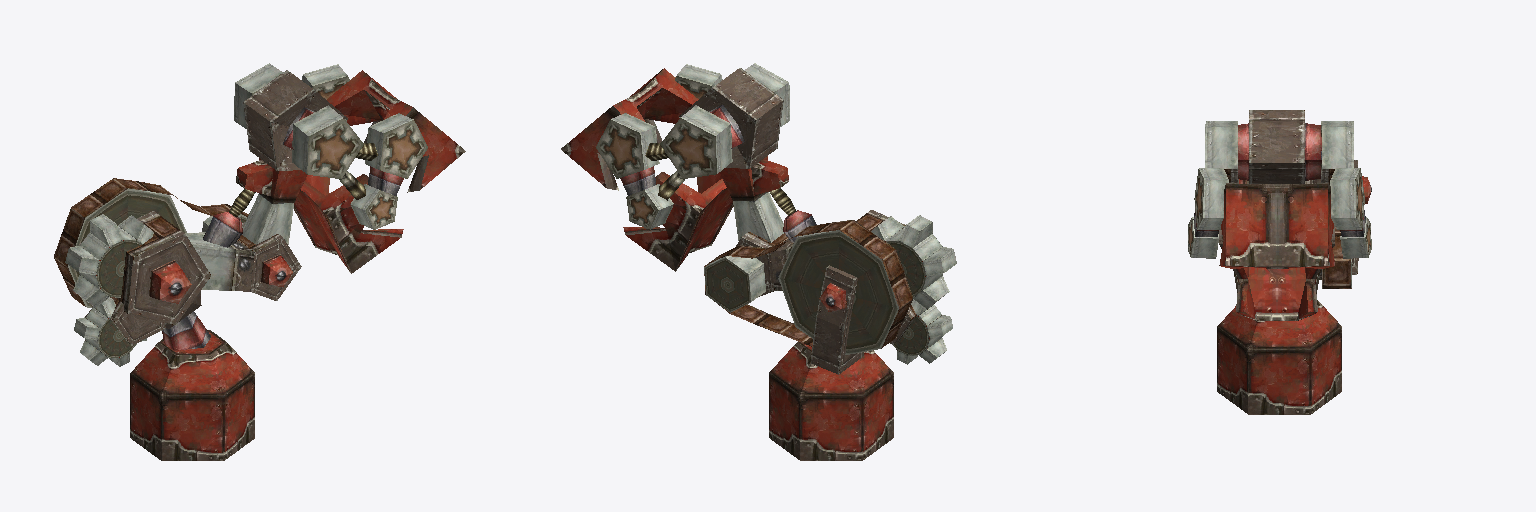
The picture shows the model from 3 angles: view 1: azimuth 30°, elevation 25°; view 2: azimuth 150°, elevation 25°; view 3: azimuth 270°, elevation 25°; orthographic projection.
Visible parts, largest first — view 1: GnomeMachine03; view 2: GnomeMachine03; view 3: GnomeMachine03.
Part boxes in pixels (x1,y1,x2,y2): GnomeMachine03: (54,63,465,460); GnomeMachine03: (561,63,956,460); GnomeMachine03: (1188,110,1371,414).
Size of the model in its own units: 8.47 by 7.36 by 3.7.
1 materials, 1 textured.